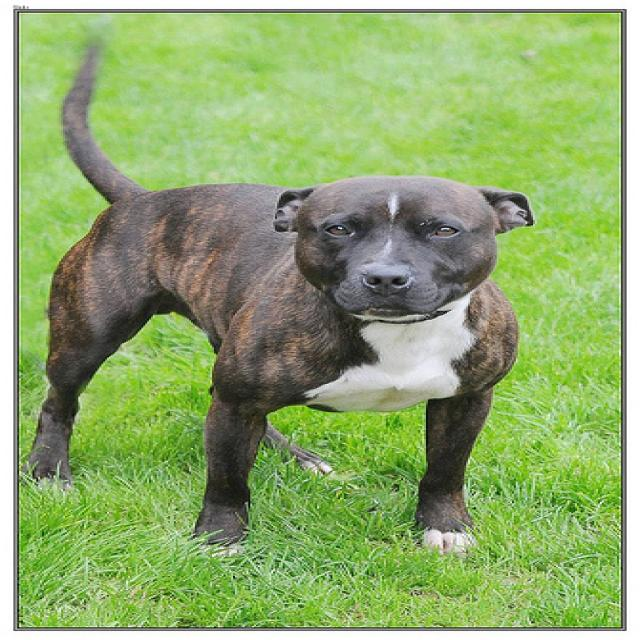dog-staffordshire_bull_terrier: (17, 31, 548, 566)
